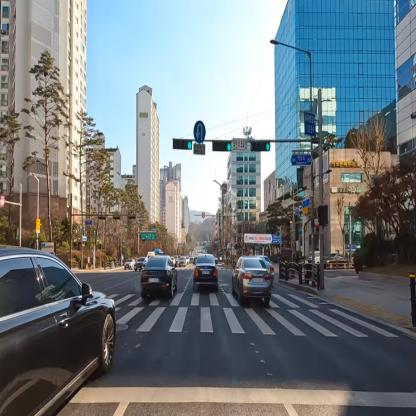Green: (172, 136, 193, 152), (212, 140, 233, 154), (250, 140, 272, 152)
